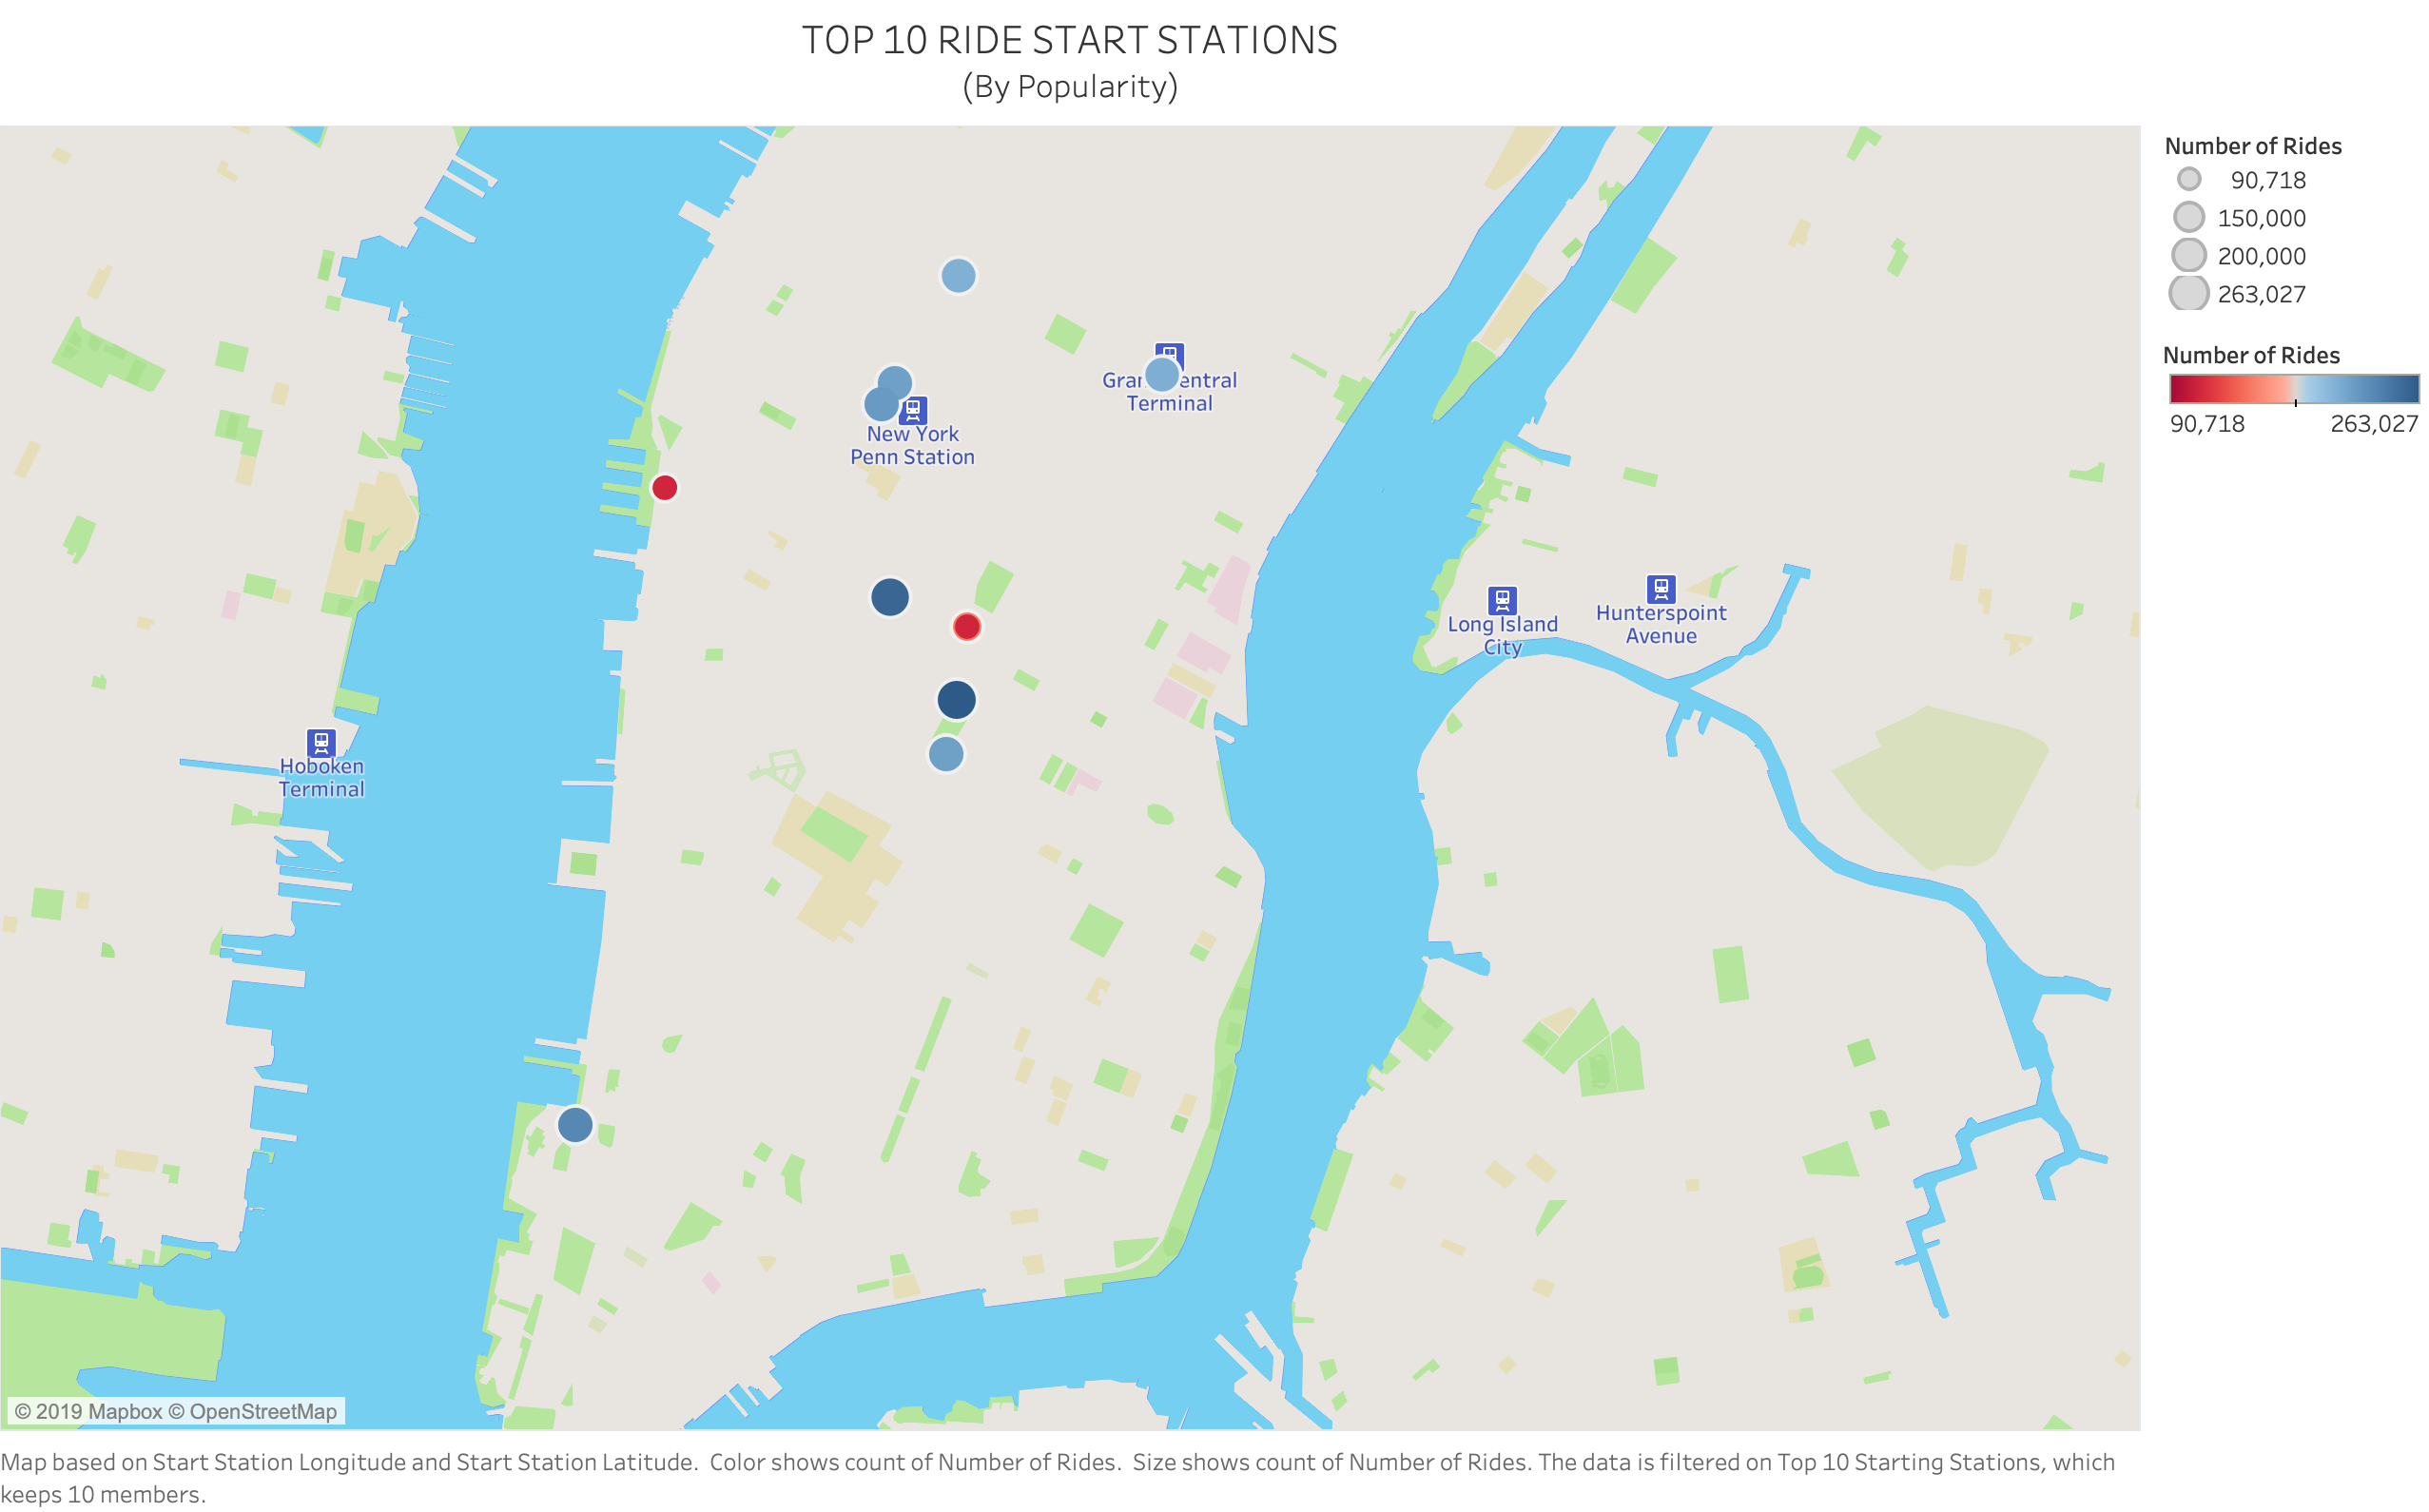

This screenshot's page, from the dashboard's own definition file:
{"tool":"tableau","page":{"name":"Dashboard 4","canvas":[1000,800],"ordinal":3},"visuals":[{"type":"worksheet","title":"Ride Start Stations","mark":"Automatic","rows":["start station latitude"],"cols":["start station longitude"],"box":[8,8,984,784]},{"type":"legend","title":"Ride Start Stations","param":"[federated.1j9ft590w6gukx16jatwz1rsvlbo].[cnt:Number of Records:qk]","box":[18,86,209,76]},{"type":"legend","title":"Ride Start Stations","param":"[federated.1j9ft590w6gukx16jatwz1rsvlbo].[cnt:Number of Records:qk]","box":[36,140,140,138]}]}

Visuals, with their boxes on the page's 1000x800 design canvas (x1, y1, x2, y2). These are canvas units, not pixel positions in the 2429x1512 screenshot, which may show the page scaled, cropped or inside an application window:
"Ride Start Stations" worksheet: rect(8, 8, 992, 792)
"Ride Start Stations" legend: rect(18, 86, 227, 162)
"Ride Start Stations" legend: rect(36, 140, 176, 278)
